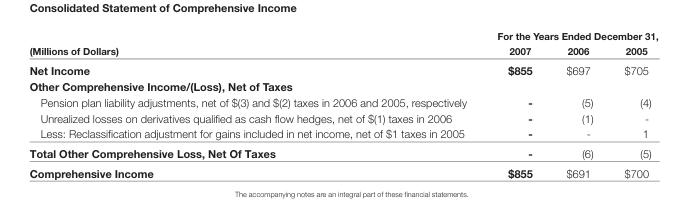table: (28, 29, 657, 178)
table column: (28, 29, 481, 178), (481, 29, 548, 178), (548, 29, 608, 178), (608, 29, 657, 178)
table column header: (28, 29, 657, 59)
table projected row header: (28, 77, 657, 93)
table row: (28, 143, 657, 162), (28, 59, 657, 77), (28, 125, 657, 143), (28, 42, 657, 59), (28, 77, 657, 93), (28, 93, 657, 109), (28, 109, 657, 125), (28, 162, 657, 178), (28, 29, 657, 42)
table spanning cell: (28, 29, 481, 59), (481, 29, 657, 42)
